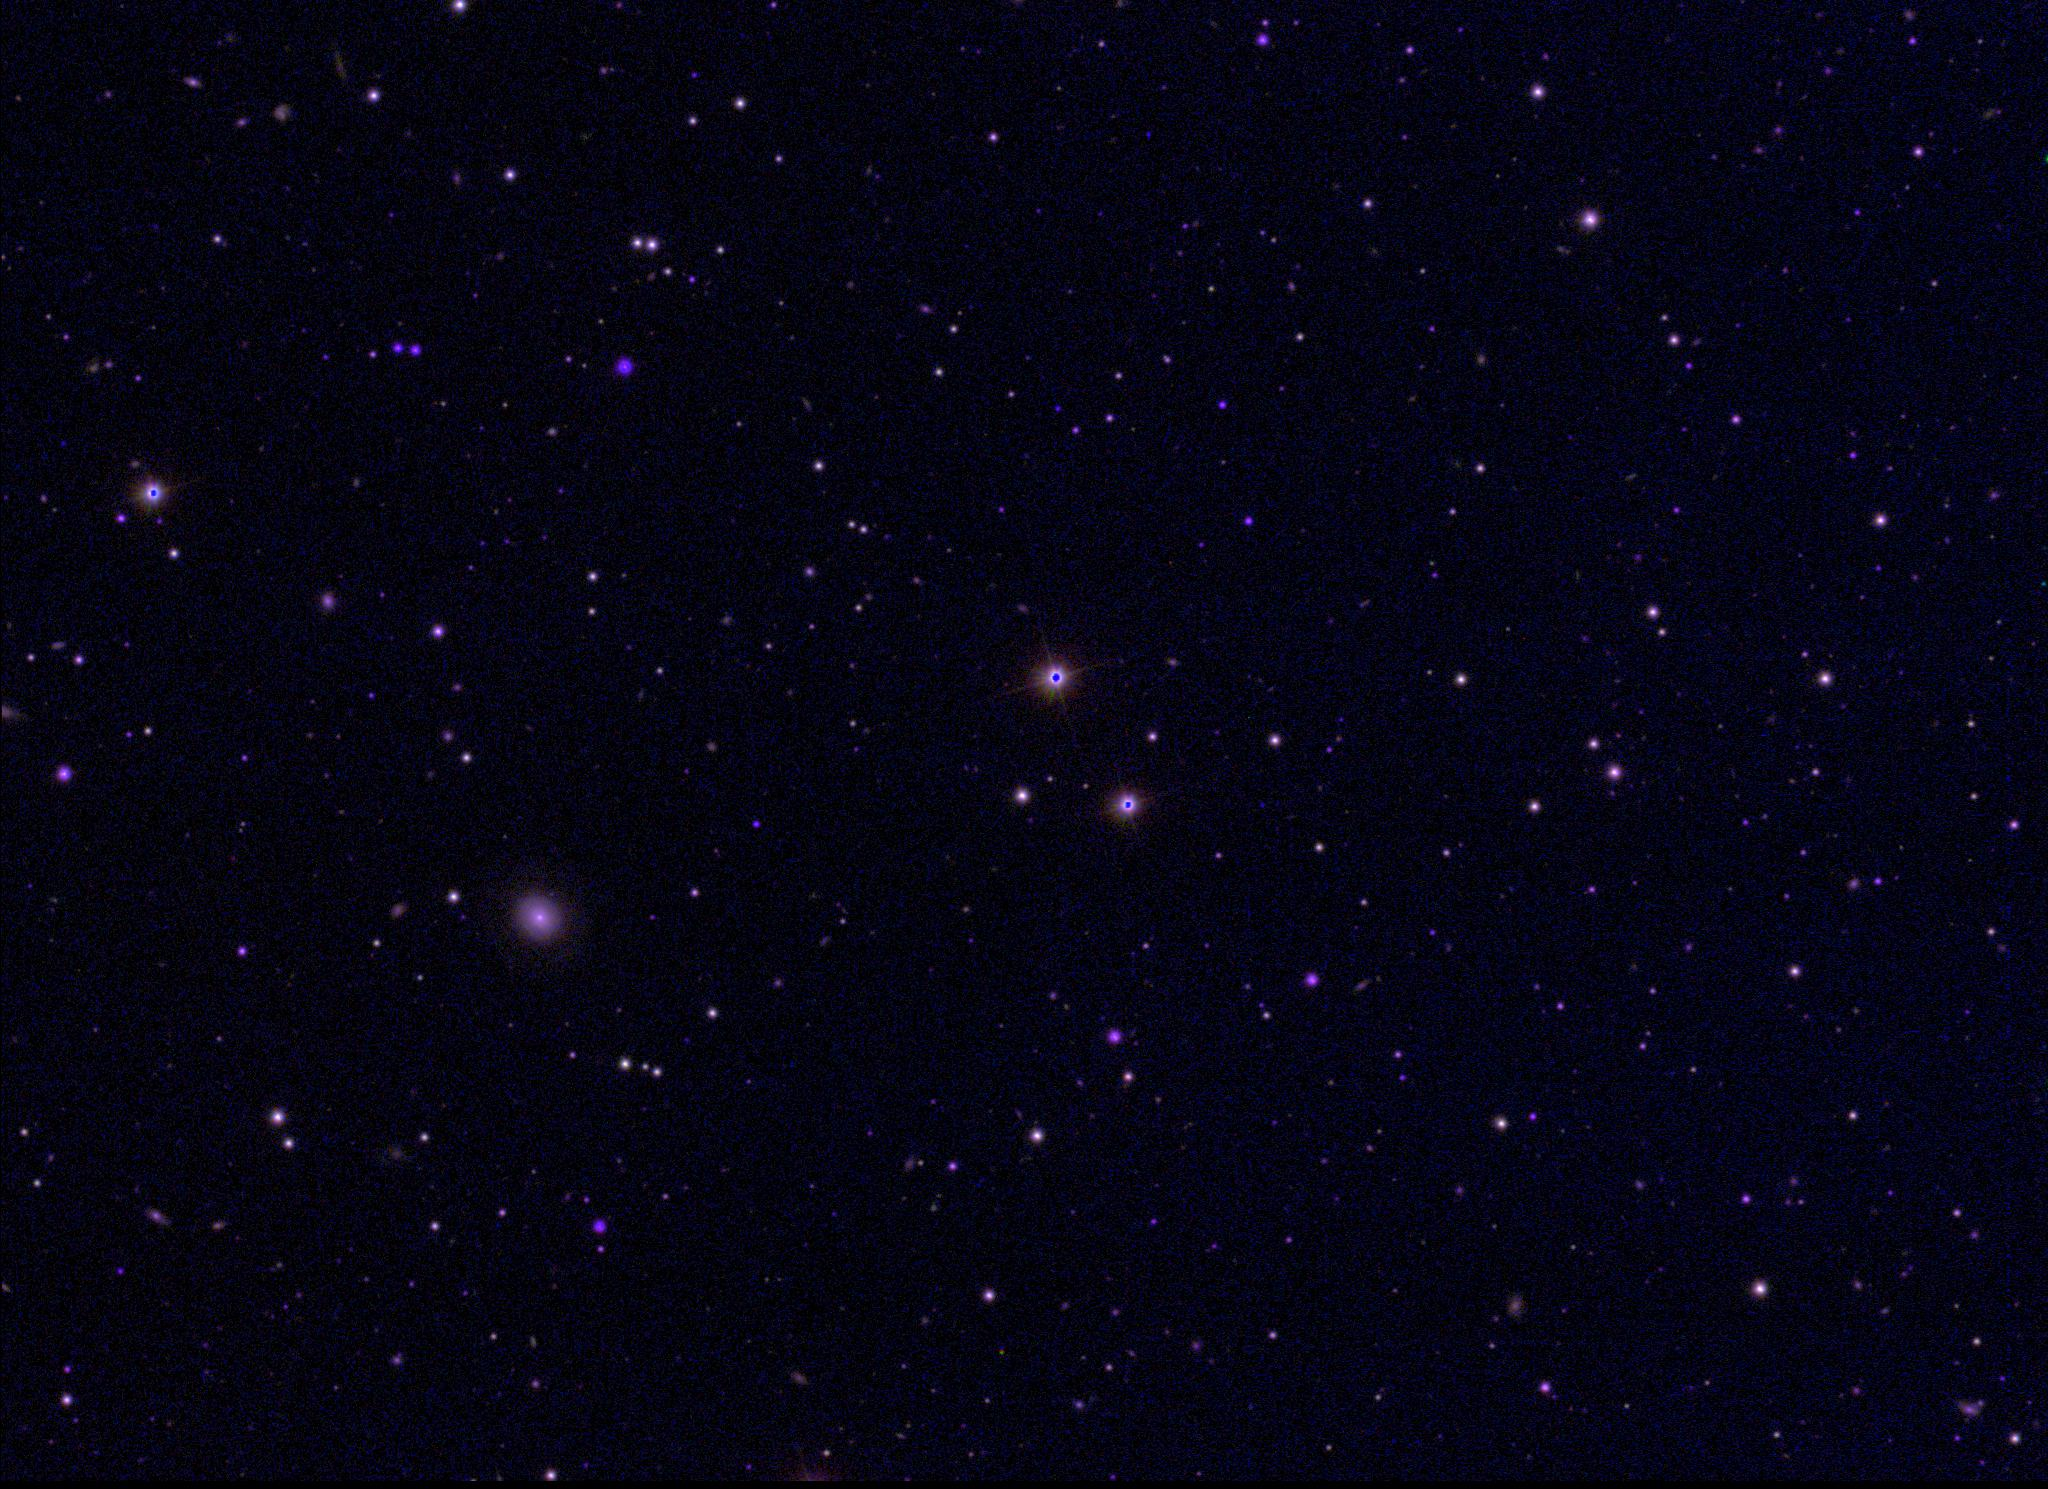L: (1142, 127, 1156, 142)
